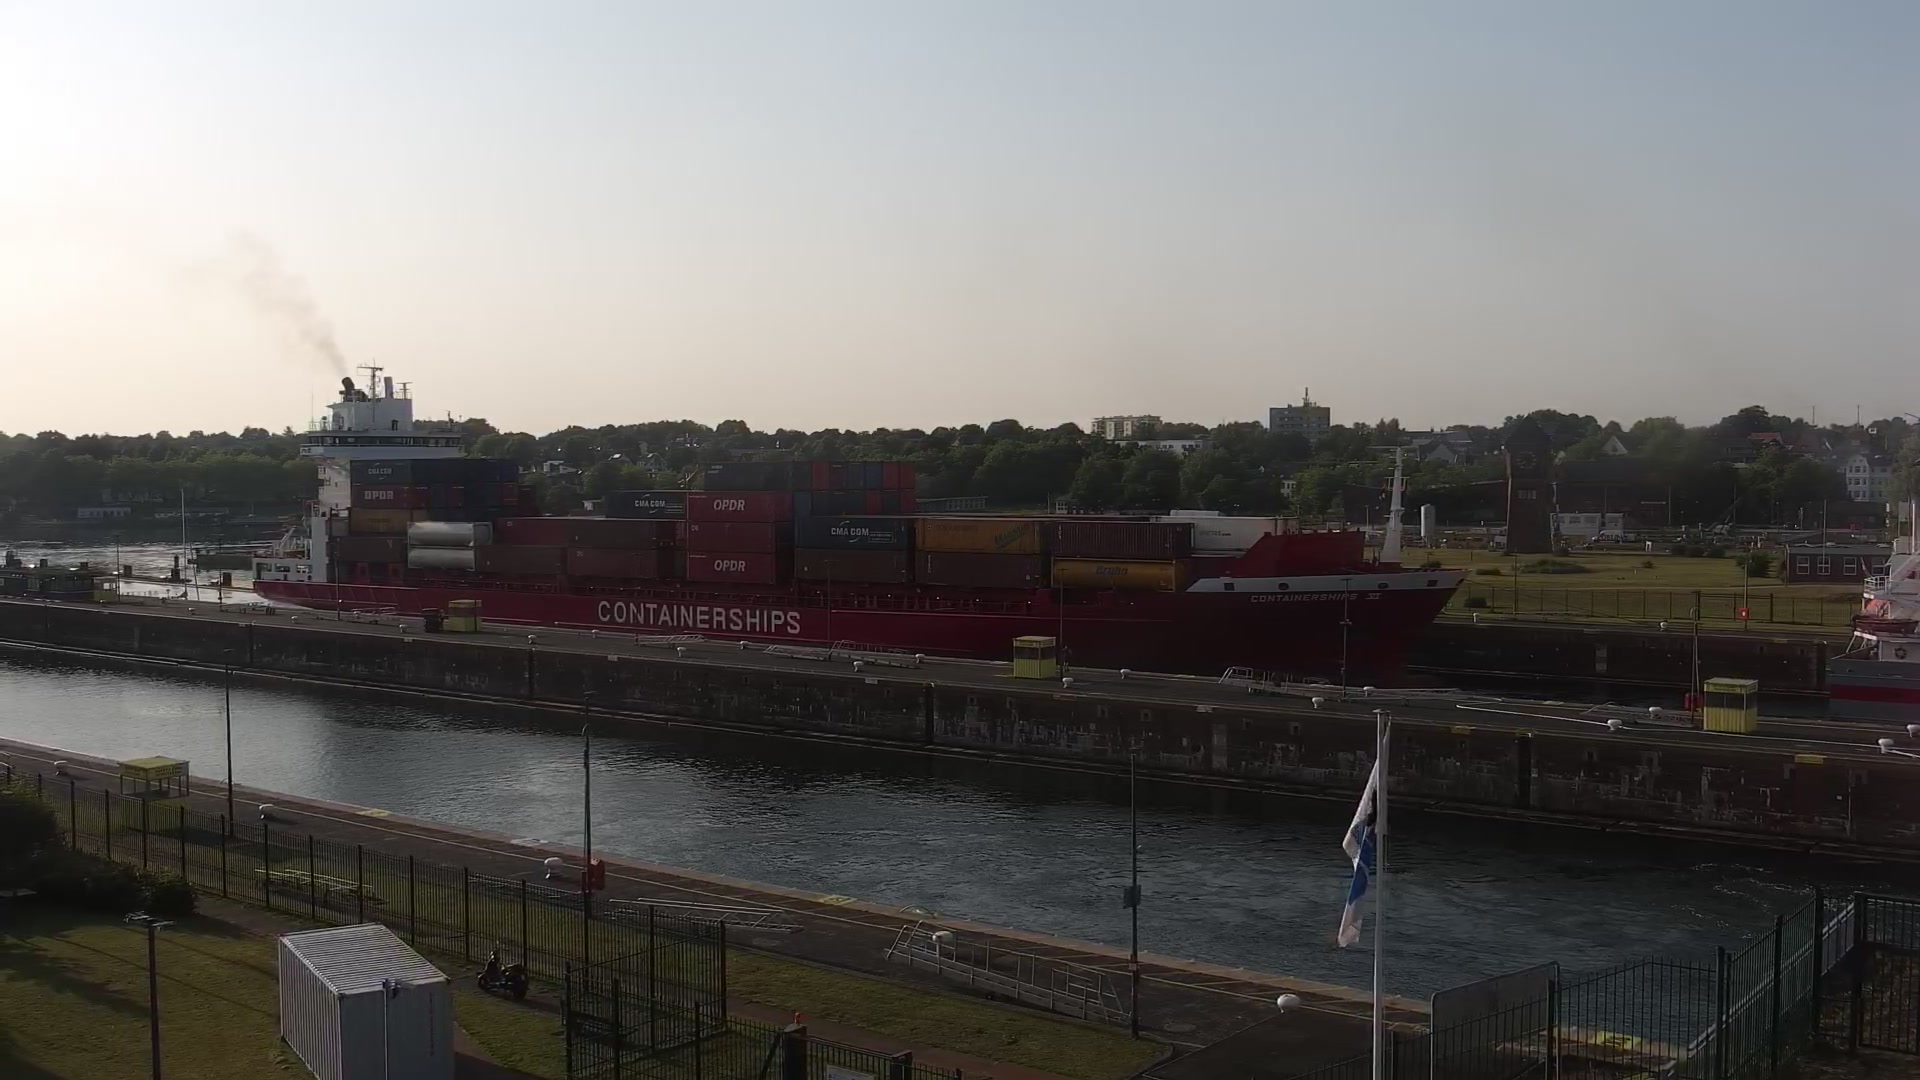human: (1059, 644, 1073, 672)
land: (475, 938, 527, 1001), (1590, 527, 1625, 544)
sea: (247, 354, 1465, 685), (1848, 497, 1919, 640)
